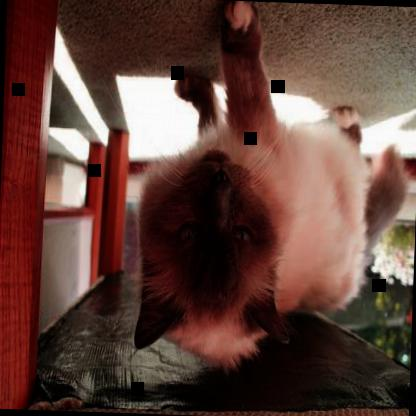cat: (134, 0, 414, 370)
